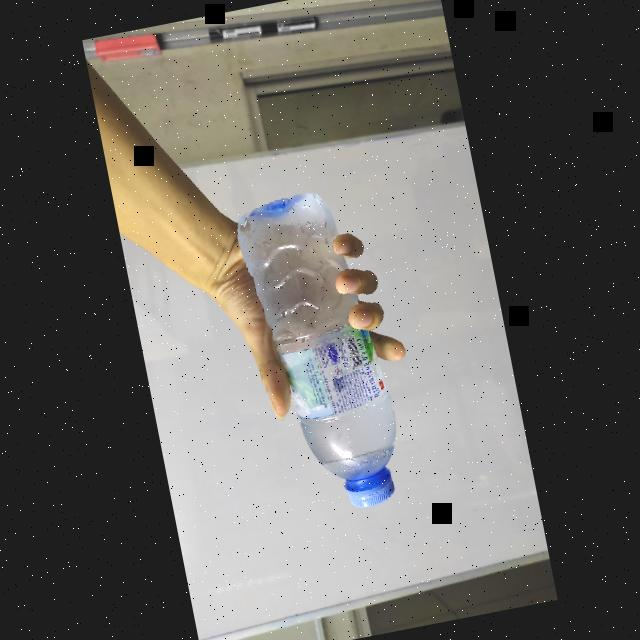plastic_bottle: (226, 178, 419, 526)
